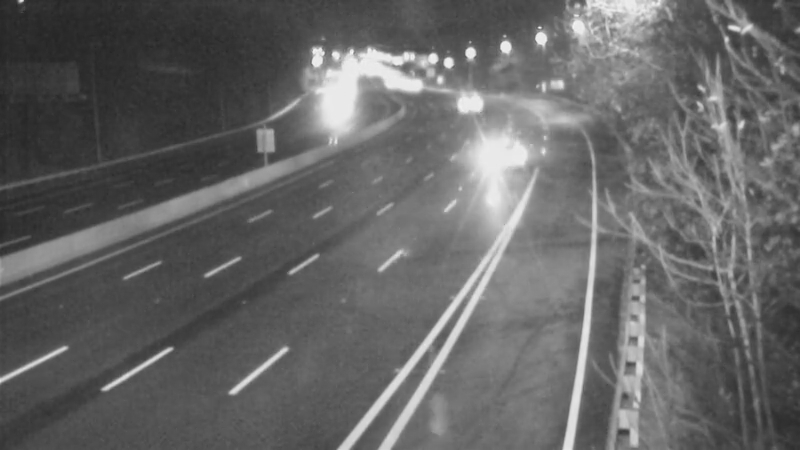vehicle: (437, 76, 487, 126), (471, 120, 521, 170)
